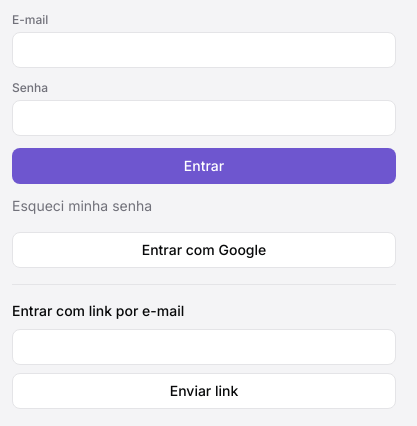
Test: LoginForm › shows the confirmation text after sendMagicLink resolves sent: true
Type "thais@example.com" into the field named "E-mail para o link".
click(204, 347); type("thais@example.com")  # box [12,329,396,365]
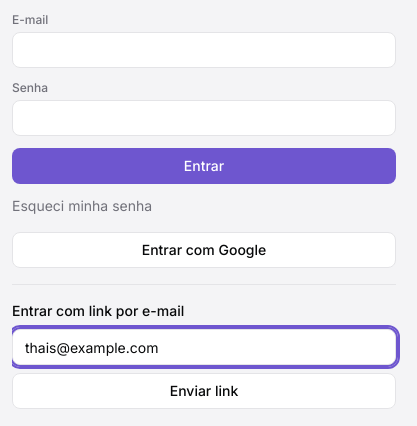
Click the button "Enviar link".
click(204, 391)  # box [12,373,396,409]
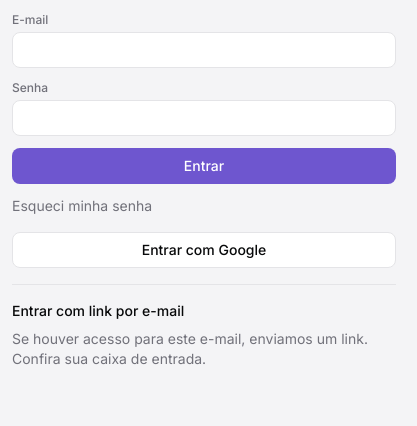
Result: the text "Se houver acesso para este e-mail, enviamos um link. Confira sua caixa de entrada." is shown at [12,330,368,367]
